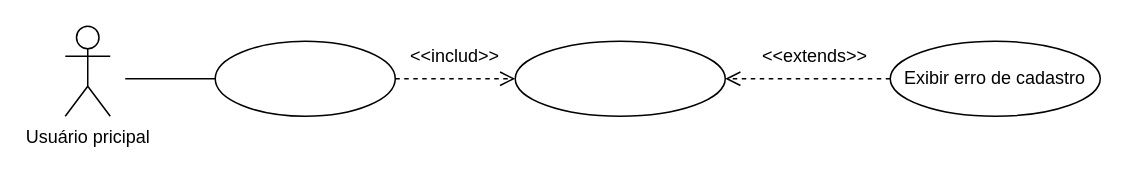
Some shapes in this 1127 by 174 pixel diagram are drawn without their labels. Each missing label, with the centre of its shape:
"Cadastrar Usuário" belongs at (304,78).
"Verificar existência de dados" belongs at (619,78).
